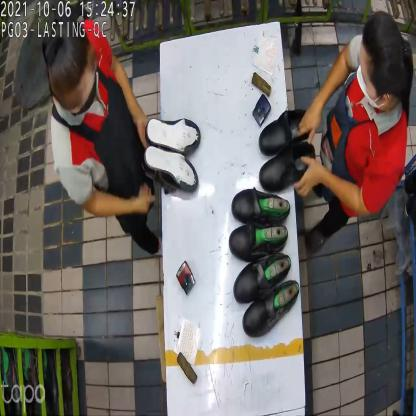shoes: (235, 256, 299, 336), (142, 113, 201, 192), (230, 192, 294, 252), (261, 112, 315, 178)
stamp: (252, 96, 272, 127), (178, 264, 195, 297)
